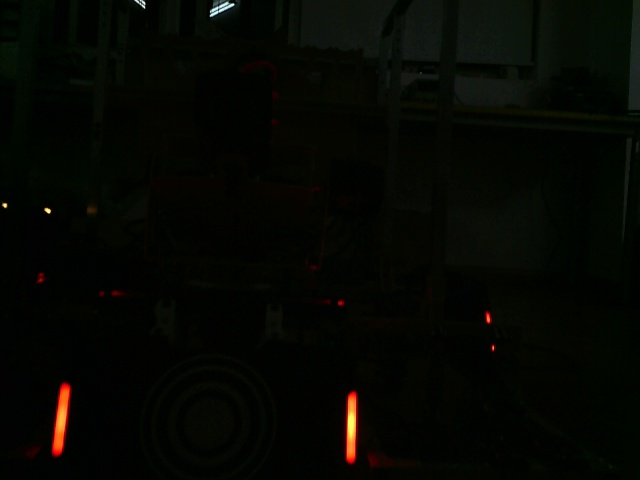lamp: (43, 383, 80, 459), (345, 389, 358, 468)
